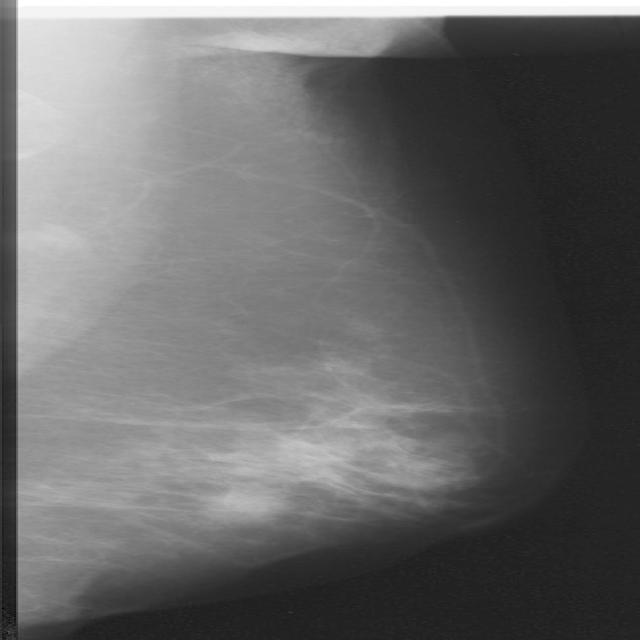tumour: (212, 488, 283, 519)
